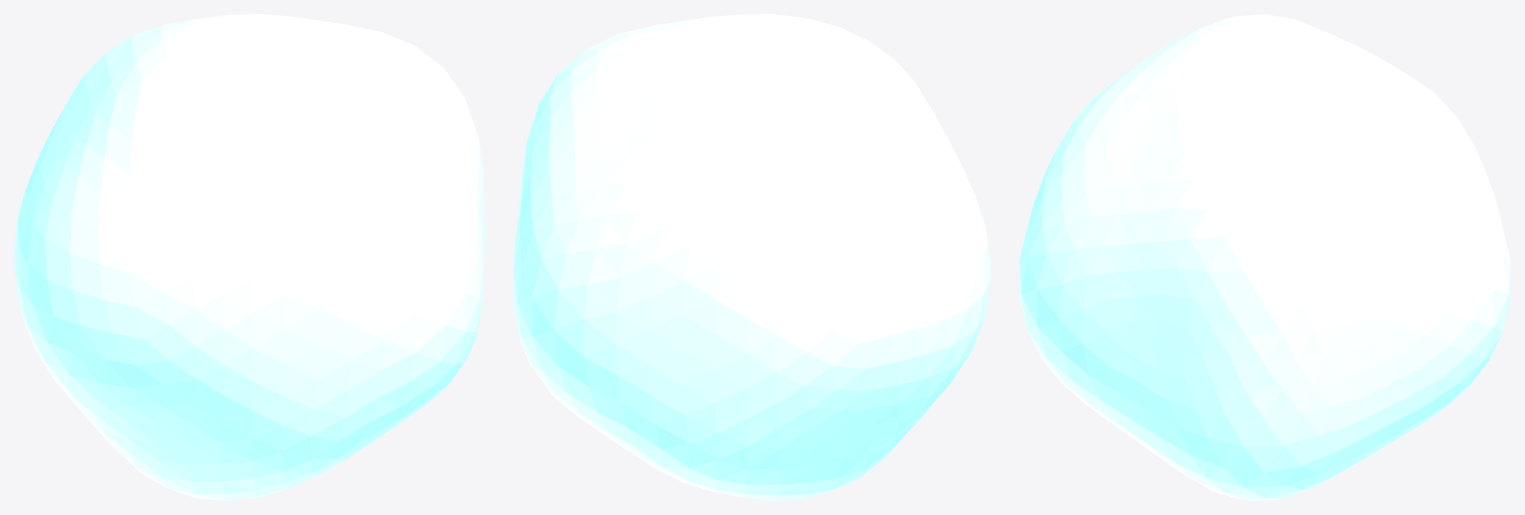
Rendered from core.glb.
3 renders of one model, left to right at view 1: azimuth 30°, elevation 25°; view 2: azimuth 150°, elevation 25°; view 3: azimuth 270°, elevation 25°, orthographic. The views are drawn at different scales.
Visible parts, largest first — view 1: Core; view 2: Core; view 3: Core.
Boxes of the visible parts, <box> form: Core: <box>14,14,484,500</box>; Core: <box>513,14,990,500</box>; Core: <box>1019,14,1510,500</box>.
Size of the model in its own units: 2.07 by 2.09 by 2.1.
